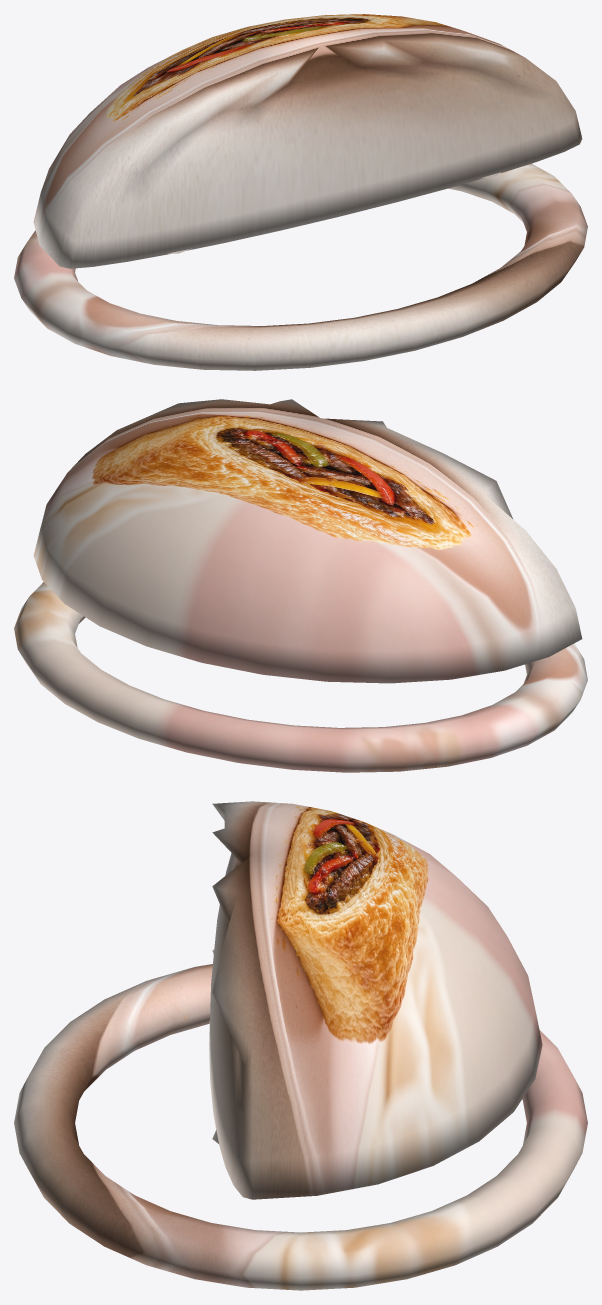
File: prop_savory_fajita.glb
3 views of the same model, one above another, from view 1: azimuth 30°, elevation 25°; view 2: azimuth 150°, elevation 25°; view 3: azimuth 270°, elevation 25° (orthographic). The views are drawn at different scales.
Visible parts, largest first — view 1: prop_savory_fajita; view 2: prop_savory_fajita; view 3: prop_savory_fajita.
Boxes of the visible parts, bbox=[...] form: prop_savory_fajita: bbox=[14, 14, 587, 370]; prop_savory_fajita: bbox=[14, 399, 587, 772]; prop_savory_fajita: bbox=[14, 801, 587, 1290].
Size of the model in its own units: 0.1513 by 0.0668 by 0.1184.
2 materials, 2 textured.
